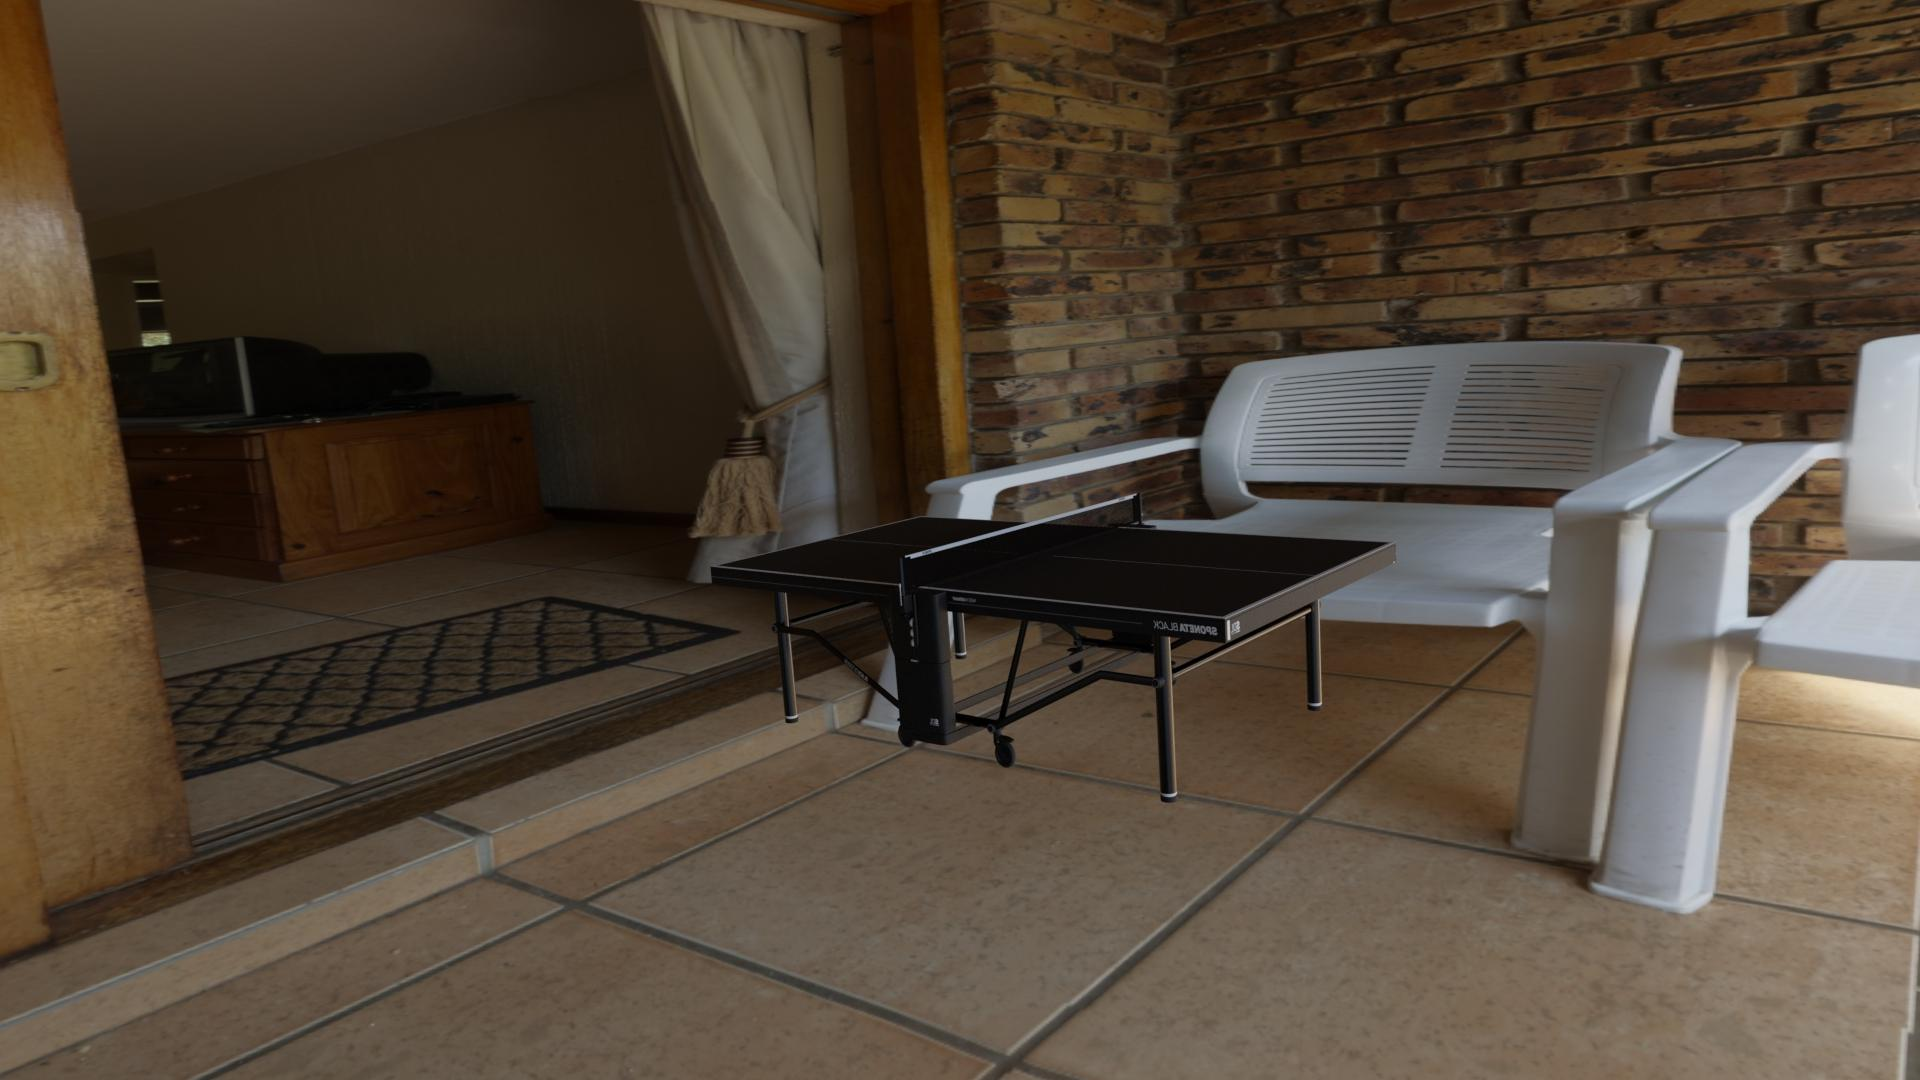table: (716, 517, 1390, 617)
